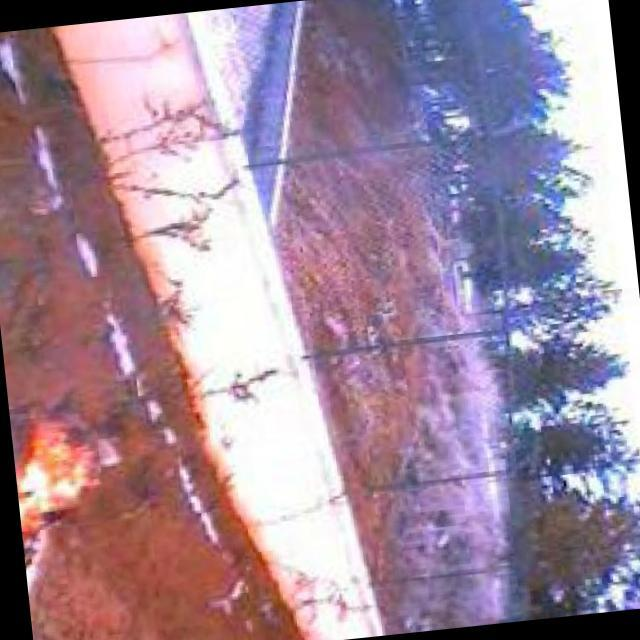Fire: (8, 393, 133, 574)
